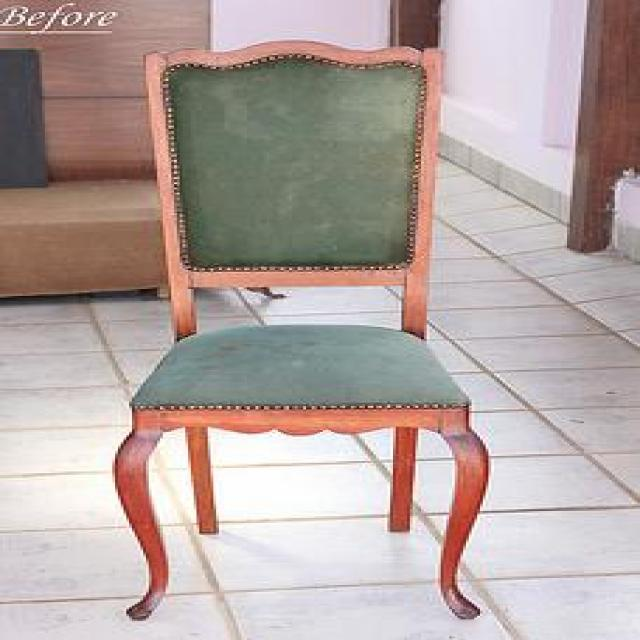chair: (106, 38, 494, 623)
